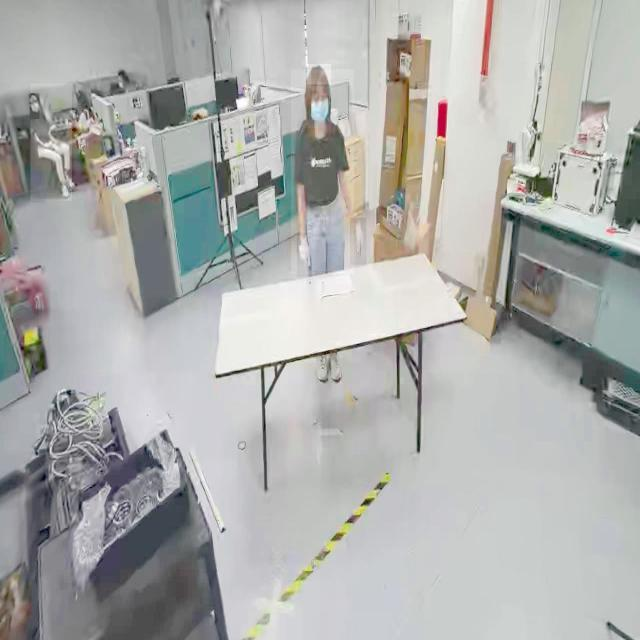face_mask: (309, 86, 330, 128), (30, 93, 40, 119)
hand_glove: (349, 218, 366, 266), (296, 233, 312, 277)
head_nohelmet: (307, 64, 331, 85), (28, 90, 38, 96)
person: (290, 69, 354, 275), (30, 84, 72, 202)
